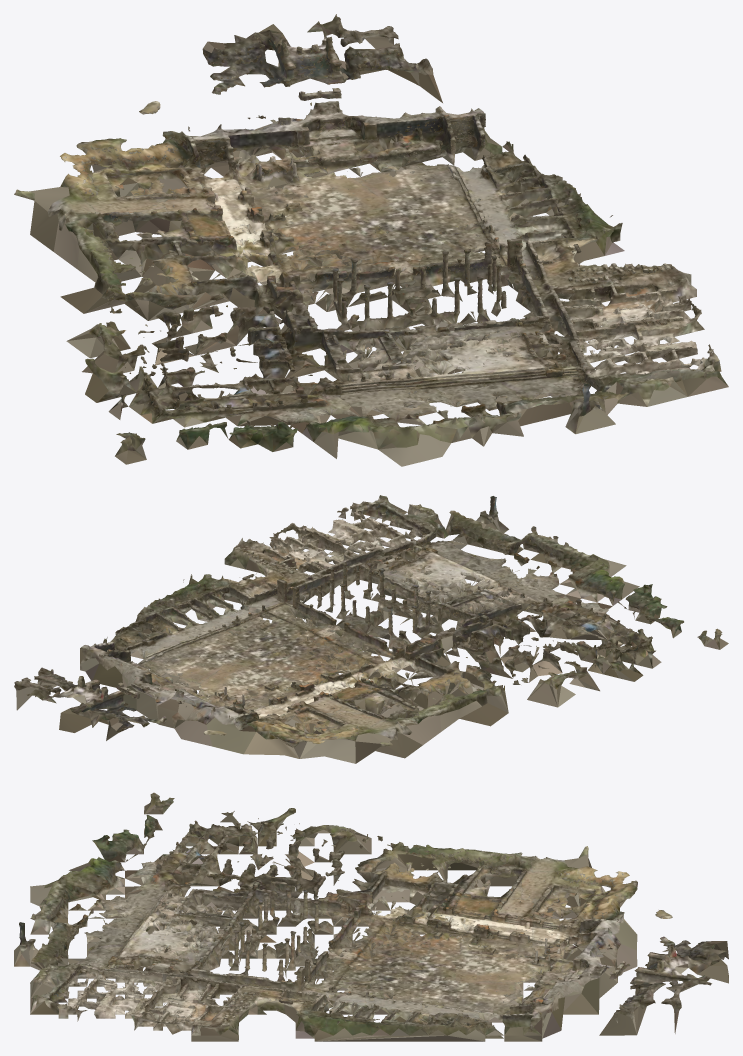
The model's file is environment.glb.
3 renders of one model, top to bottom at view 1: azimuth 30°, elevation 25°; view 2: azimuth 150°, elevation 25°; view 3: azimuth 270°, elevation 25°, orthographic. The views are drawn at different scales.
Visible parts, largest first — view 1: Object_2; view 2: Object_2; view 3: Object_2.
Boxes of the visible parts, x1=… form: Object_2: x1=14, y1=14, x2=728, y2=466; Object_2: x1=14, y1=495, x2=728, y2=763; Object_2: x1=14, y1=792, x2=728, y2=1041.
Bounding box in the file's own units: 83.58 × 8.65 × 107.
1 material, 1 textured.
